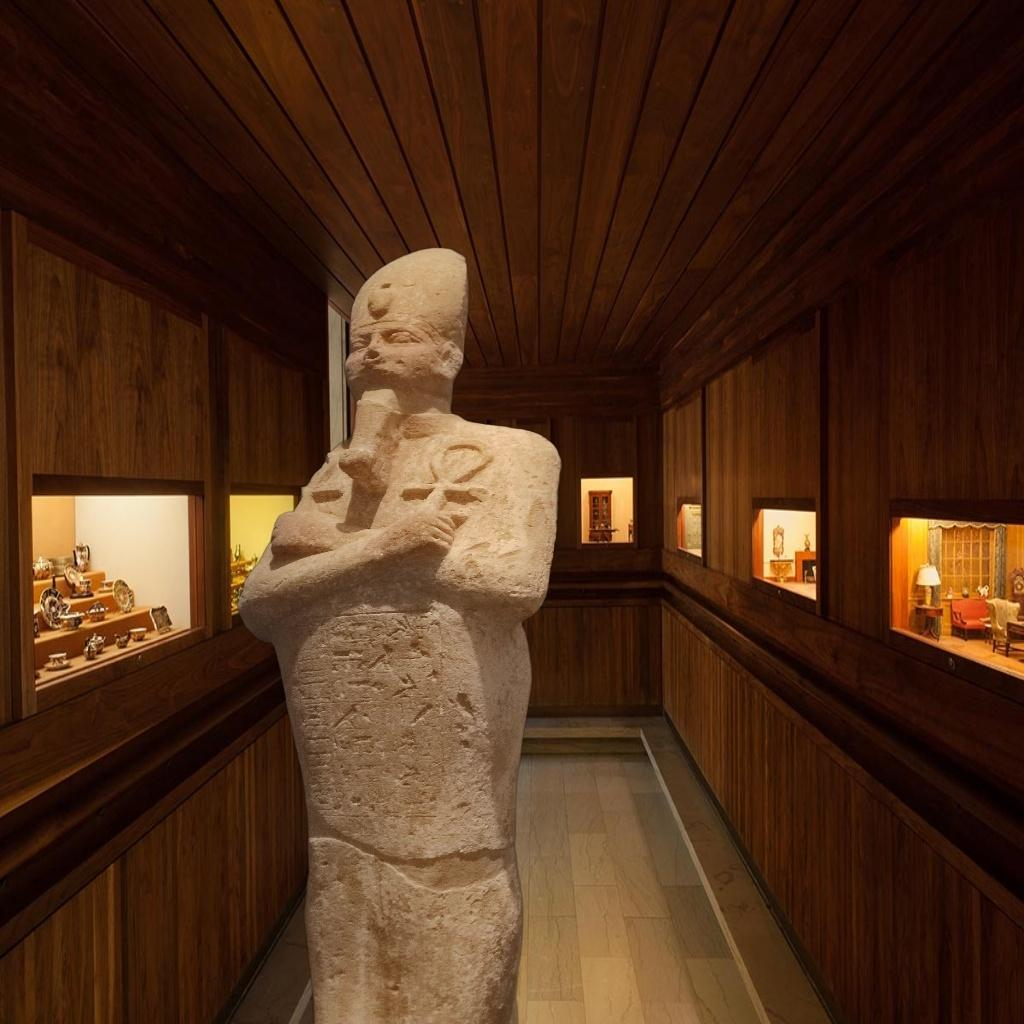Statue of Mentuhotep II: (234, 233, 582, 1024)
